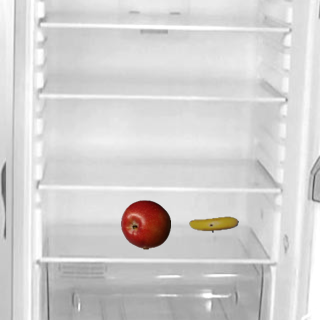Apple Braeburn: (120, 199, 170, 249)
Banana: (188, 199, 238, 249)
